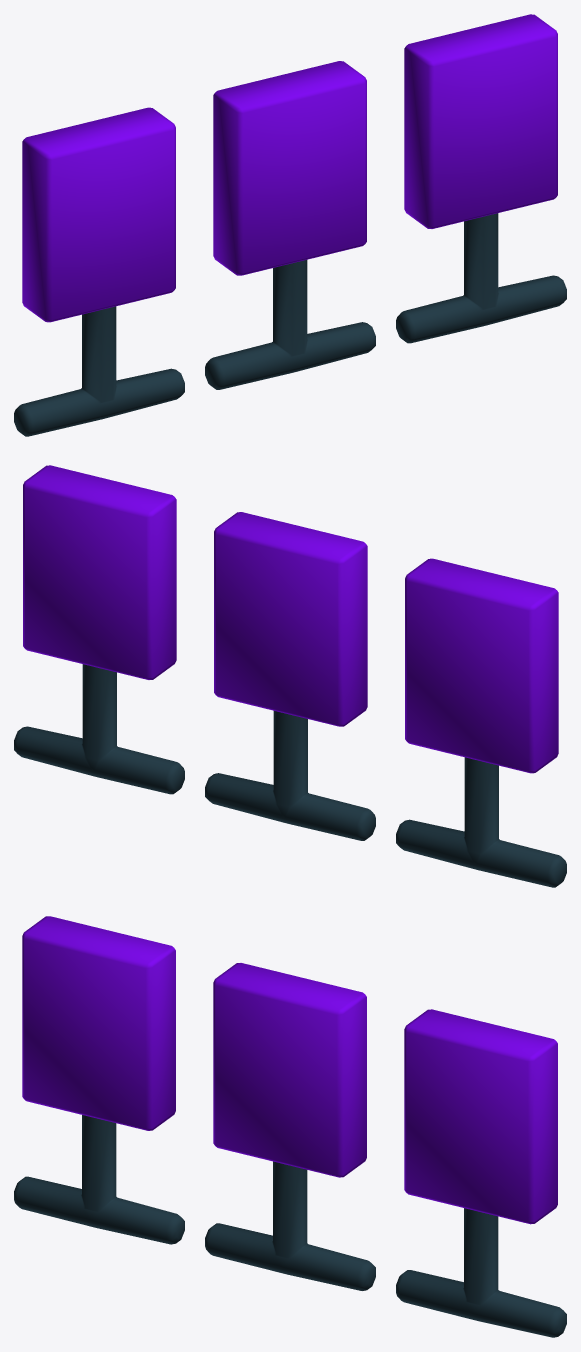
The model's file is Still_Blockers.fbx.
3 views of the same model, one above another, from view 1: azimuth 30°, elevation 25°; view 2: azimuth 150°, elevation 25°; view 3: azimuth 330°, elevation 25° (orthographic).
Visible parts, largest first — view 1: still purple 1.001, still purple 1.002, still purple 1; view 2: still purple 1.001, still purple 1.002, still purple 1; view 3: still purple 1, still purple 1.002, still purple 1.001.
Part boxes in pixels (bbox=[...]): still purple 1.001: bbox=[396, 14, 566, 343]; still purple 1.002: bbox=[14, 107, 184, 436]; still purple 1: bbox=[205, 61, 375, 389]; still purple 1.001: bbox=[14, 465, 184, 794]; still purple 1.002: bbox=[396, 558, 566, 887]; still purple 1: bbox=[205, 512, 375, 840]; still purple 1: bbox=[205, 963, 375, 1290]; still purple 1.002: bbox=[14, 916, 184, 1244]; still purple 1.001: bbox=[396, 1009, 566, 1337].
Size of the model in its own units: 329 by 165 by 29.17.
